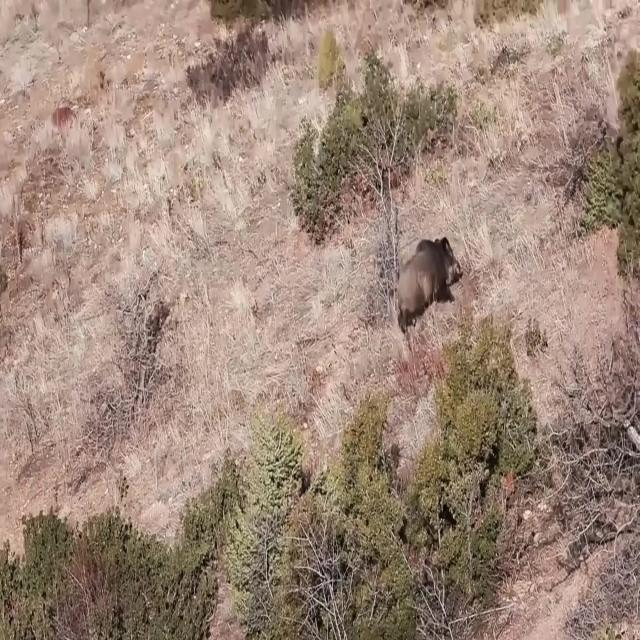pig: (389, 226, 481, 362)
